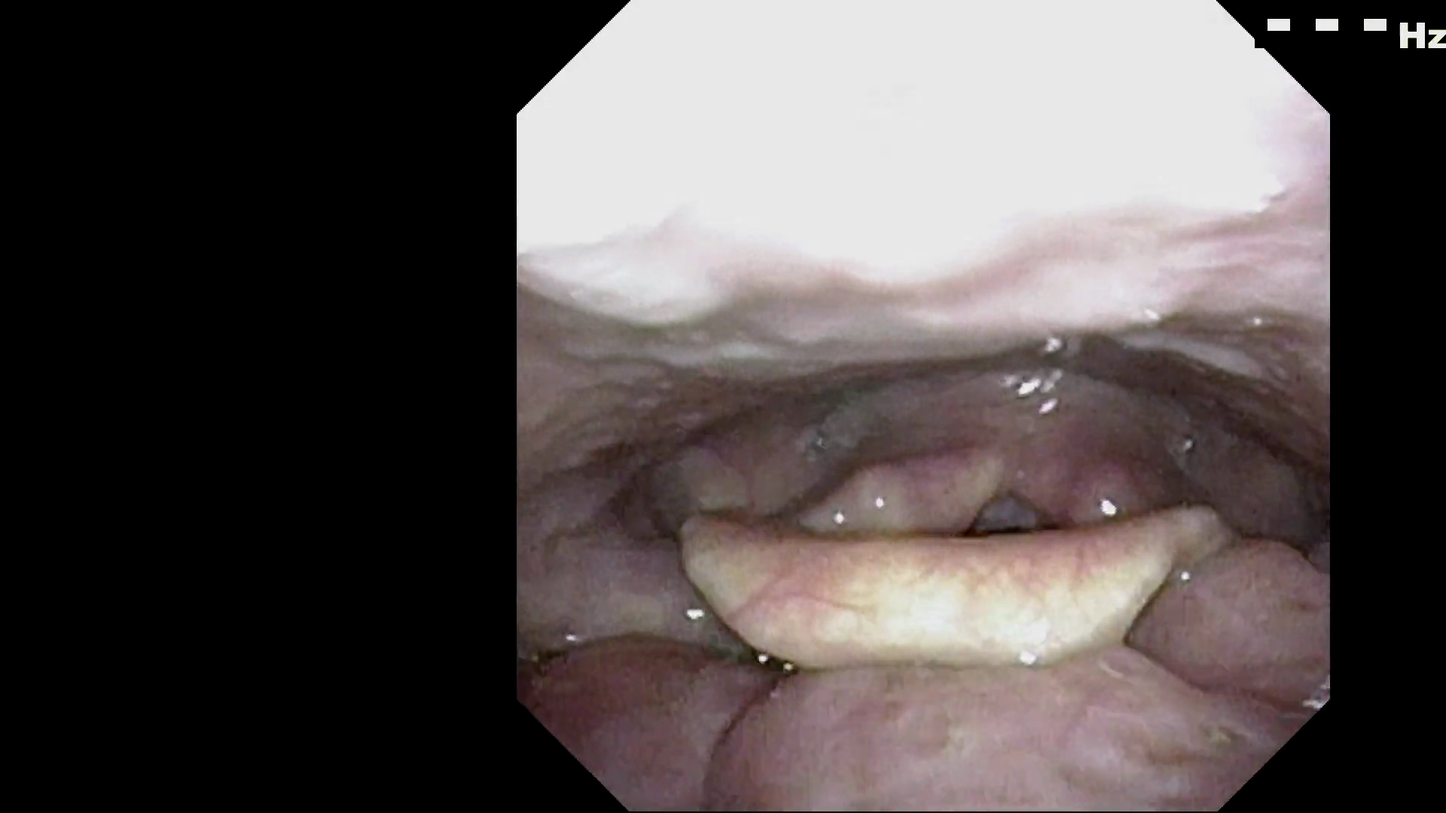epiglottis: (704, 492, 1246, 631)
